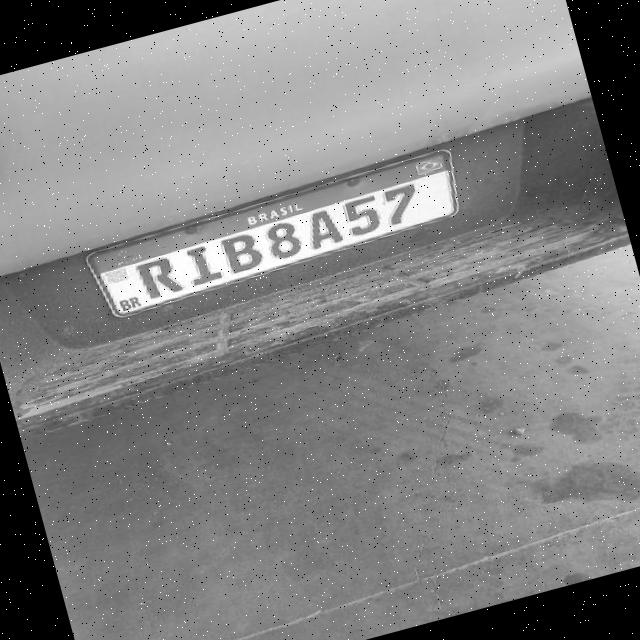placa_mercosul: (86, 144, 459, 316)
